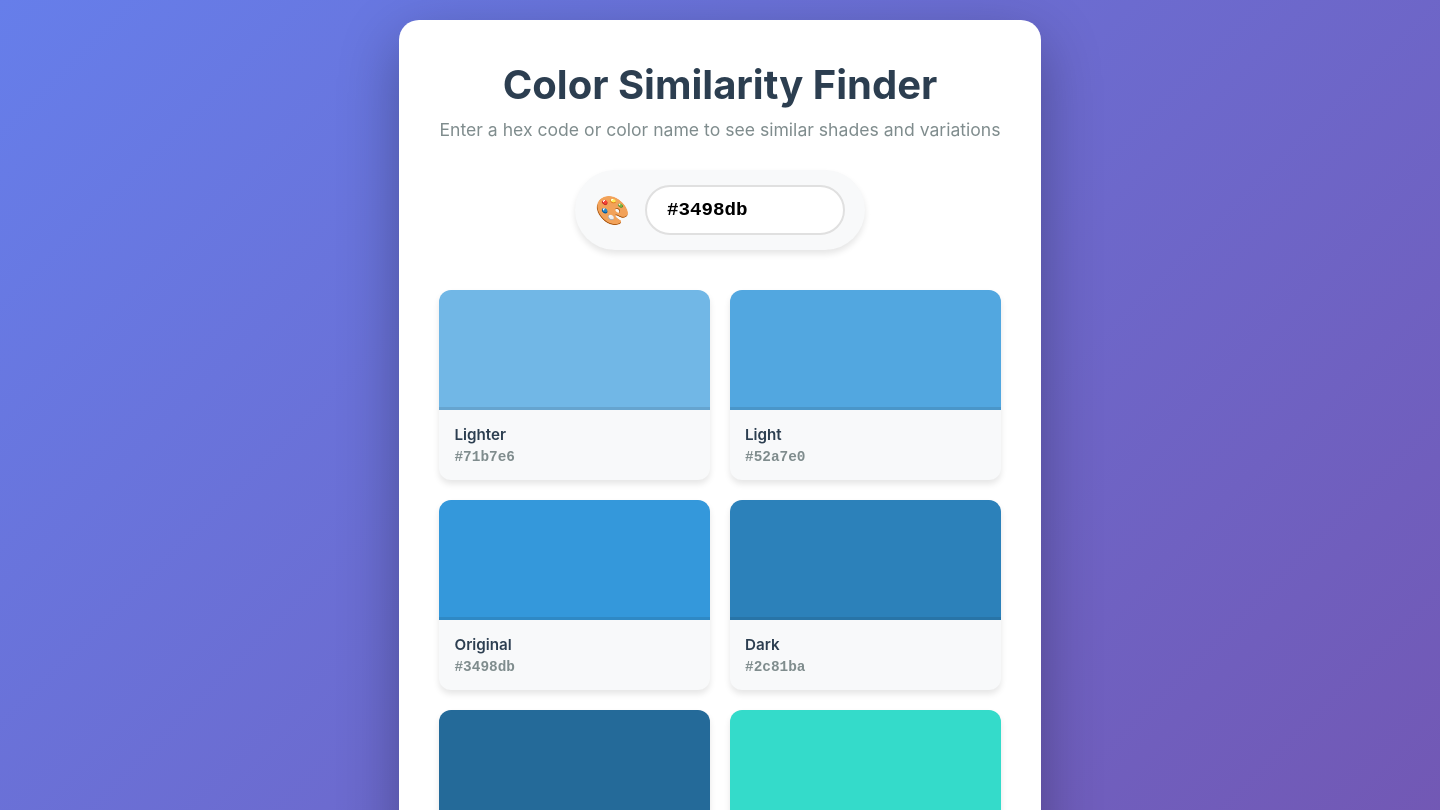
Test: Edge Cases - Black and White Colors › generates variations for white color
Replace the text in the field with "#ffffff" at x=745, y=210, box left=645, top=185, right=845, bottom=235
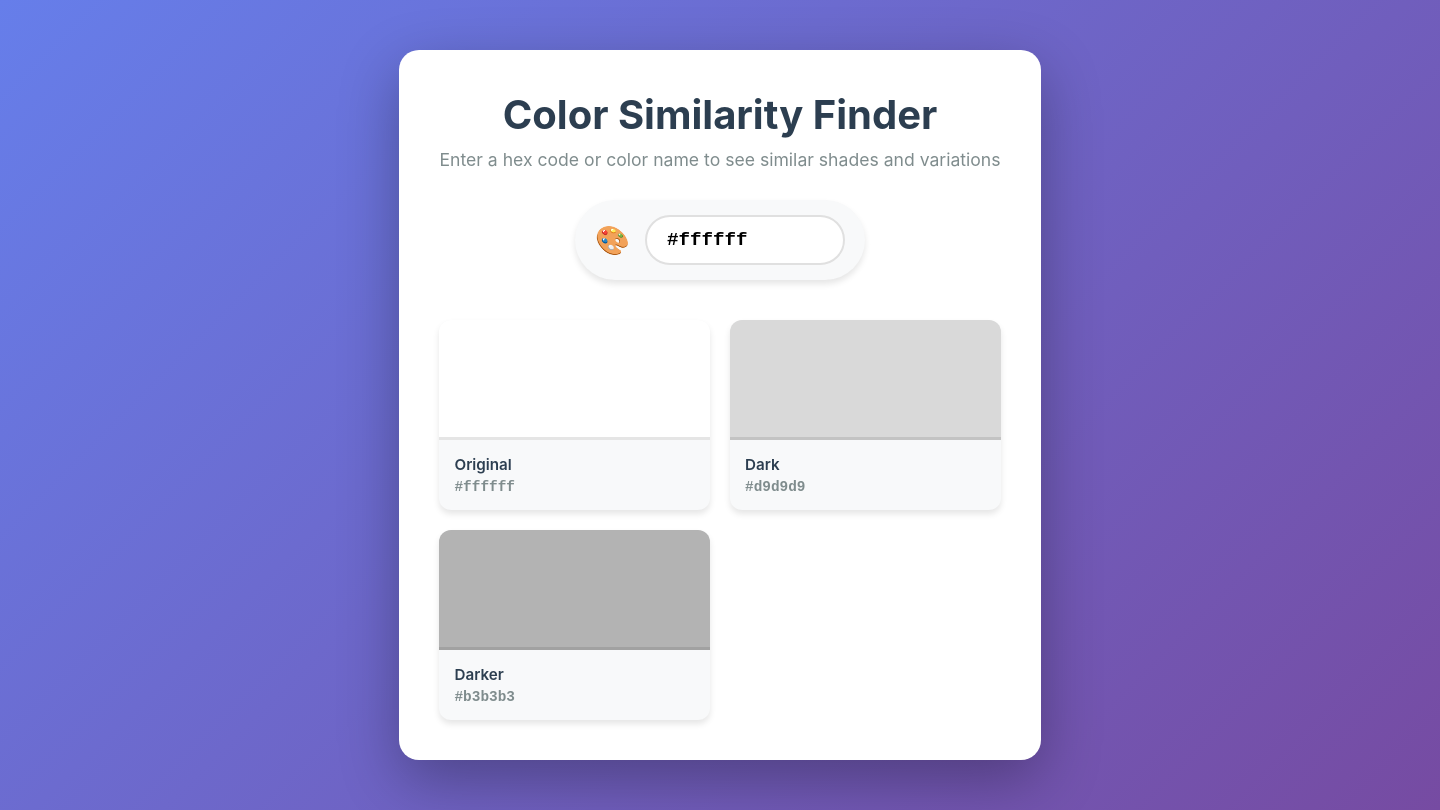
Expected: the text with class "color-hex" reads "#ffffff", left=454, top=479, right=515, bottom=495
